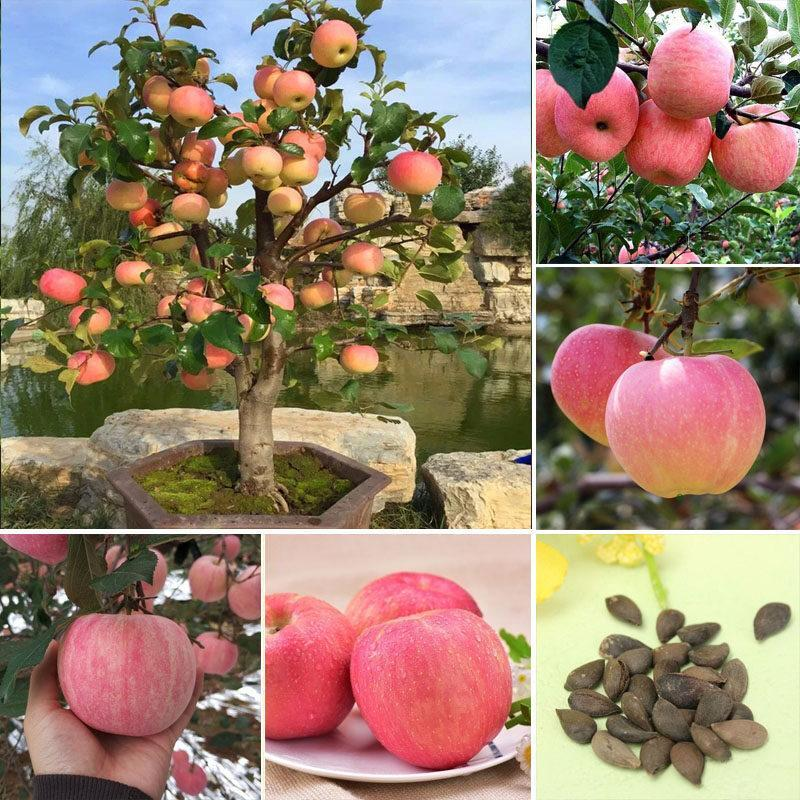apple: (346, 605, 515, 768), (600, 350, 768, 498), (548, 322, 692, 451), (56, 612, 195, 739), (268, 591, 355, 743), (552, 63, 638, 165), (647, 23, 734, 123), (712, 101, 797, 195), (624, 94, 710, 186), (386, 151, 442, 196), (310, 21, 357, 69), (38, 267, 88, 309), (236, 143, 282, 187), (167, 84, 214, 126), (66, 348, 117, 386), (271, 70, 315, 110), (340, 238, 384, 278), (343, 188, 387, 222), (294, 277, 336, 310), (147, 221, 186, 255), (105, 178, 145, 211), (169, 192, 209, 225), (339, 343, 380, 375), (267, 184, 303, 219), (182, 130, 215, 168), (141, 76, 173, 115), (186, 295, 227, 325), (276, 155, 319, 183), (114, 261, 155, 289), (262, 106, 298, 133)
